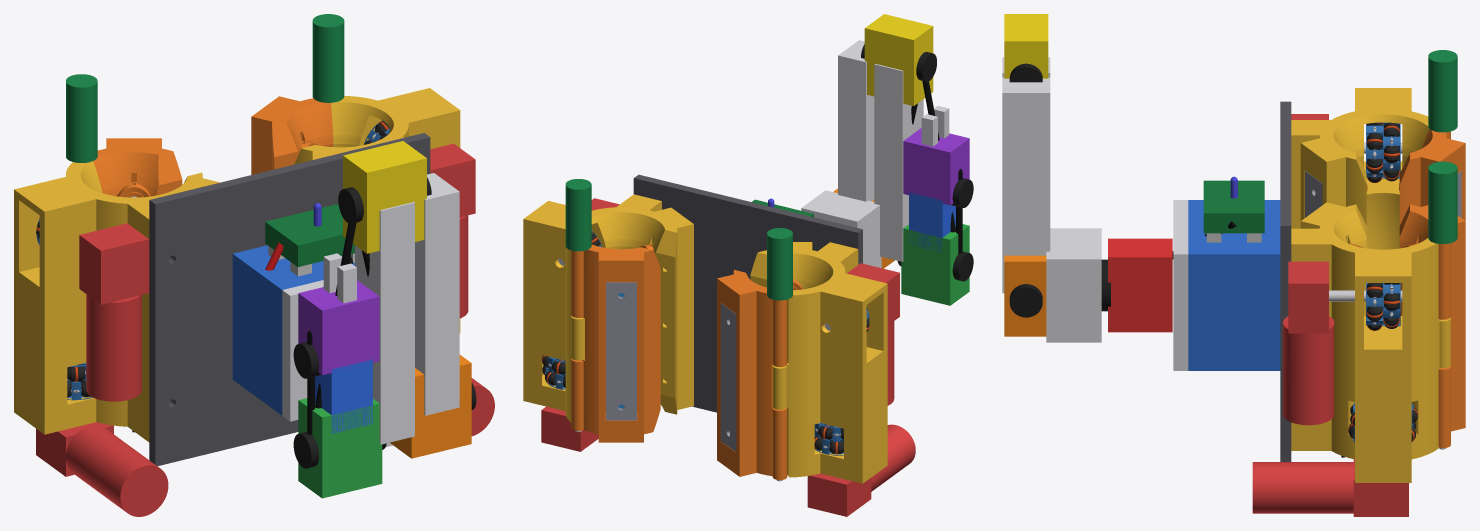
Rendered from cart-arm-stowed.glb.
The picture shows the model from 3 angles, left to right: view 1: azimuth 30°, elevation 25°; view 2: azimuth 150°, elevation 25°; view 3: azimuth 270°, elevation 25°; orthographic projection. The views are drawn at different scales.
Parts seen in each view (by area): view 1: base_plate, hand_on_pipe_B_sleeve, arm_stowed_forearm, arm_stowed_upper_arm, battery, hand_on_pipe_C_sleeve, arm_stowed_servo_D_wrist_flex, arm_stowed_servo_C_elbow, hand_on_pipe_B_roll_motor, arm_stowed_servo_F_gripper, hand_on_pipe_B_drive_motor, hand_on_pipe_B_drive_gearbox (+20 smaller); view 2: hand_on_pipe_B_sleeve, hand_on_pipe_C_sleeve, base_plate, hand_on_pipe_C_jaw, hand_on_pipe_B_jaw, arm_stowed_forearm, arm_stowed_upper_arm, hand_on_pipe_C_p60_cap, arm_stowed_servo_D_wrist_flex, arm_stowed_servo_C_elbow, arm_stowed_servo_F_gripper, arm_stowed_shoulder_bracket (+14 smaller); view 3: hand_on_pipe_C_sleeve, battery, hand_on_pipe_B_sleeve, arm_stowed_upper_arm, arm_stowed_shoulder_bracket, hand_on_pipe_C_jaw, arm_stowed_servo_A_base, hand_on_pipe_C_roll_motor, hand_on_pipe_C_drive_motor, base_plate, waveshare_board, hand_on_pipe_B_jaw (+16 smaller).
Part boxes in pixels (left/top/right/bottom): base_plate: left=149, top=133, right=430, bottom=466; hand_on_pipe_B_sleeve: left=14, top=161, right=219, bottom=442; arm_stowed_forearm: left=355, top=202, right=414, bottom=444; arm_stowed_upper_arm: left=415, top=173, right=459, bottom=415; battery: left=232, top=245, right=354, bottom=415; hand_on_pipe_C_sleeve: left=294, top=88, right=460, bottom=332; arm_stowed_servo_D_wrist_flex: left=298, top=398, right=382, bottom=498; arm_stowed_servo_C_elbow: left=343, top=141, right=426, bottom=253; hand_on_pipe_B_roll_motor: left=66, top=425, right=168, bottom=516; arm_stowed_servo_F_gripper: left=298, top=280, right=379, bottom=375; hand_on_pipe_B_drive_motor: left=86, top=294, right=141, bottom=401; hand_on_pipe_B_drive_gearbox: left=79, top=223, right=149, bottom=304; hand_on_pipe_B_sleeve: left=750, top=242, right=887, bottom=483; hand_on_pipe_C_sleeve: left=523, top=194, right=693, bottom=422; base_plate: left=633, top=174, right=862, bottom=412; hand_on_pipe_C_jaw: left=571, top=244, right=660, bottom=442; hand_on_pipe_B_jaw: left=717, top=270, right=787, bottom=479; arm_stowed_forearm: left=874, top=64, right=923, bottom=261; arm_stowed_upper_arm: left=838, top=40, right=874, bottom=201; hand_on_pipe_C_p60_cap: left=606, top=282, right=636, bottom=420; arm_stowed_servo_D_wrist_flex: left=901, top=224, right=969, bottom=305; arm_stowed_servo_C_elbow: left=864, top=14, right=933, bottom=105; arm_stowed_servo_F_gripper: left=903, top=128, right=969, bottom=205; arm_stowed_shoulder_bracket: left=801, top=190, right=881, bottom=267; hand_on_pipe_C_sleeve: left=1291, top=202, right=1450, bottom=482; battery: left=1188, top=200, right=1280, bottom=370; hand_on_pipe_B_sleeve: left=1291, top=88, right=1429, bottom=249; arm_stowed_upper_arm: left=1002, top=77, right=1050, bottom=293; arm_stowed_shoulder_bracket: left=1046, top=228, right=1101, bottom=342; hand_on_pipe_C_jaw: left=1399, top=204, right=1465, bottom=448; arm_stowed_servo_A_base: left=1108, top=238, right=1172, bottom=332; hand_on_pipe_C_roll_motor: left=1252, top=462, right=1353, bottom=513; hand_on_pipe_C_drive_motor: left=1283, top=316, right=1334, bottom=425; base_plate: left=1280, top=101, right=1291, bottom=461; waveshare_board: left=1203, top=180, right=1264, bottom=233; hand_on_pipe_B_jaw: left=1399, top=129, right=1465, bottom=225.
Bounding box in the file's own units: 242 × 234 × 252.
